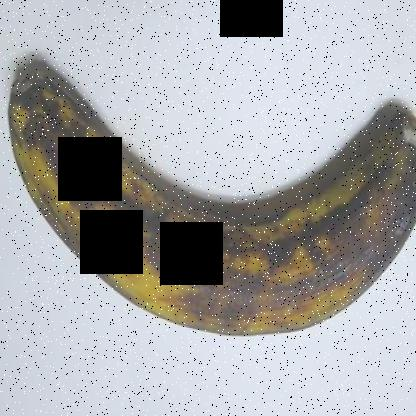overripe: (1, 28, 415, 378)
